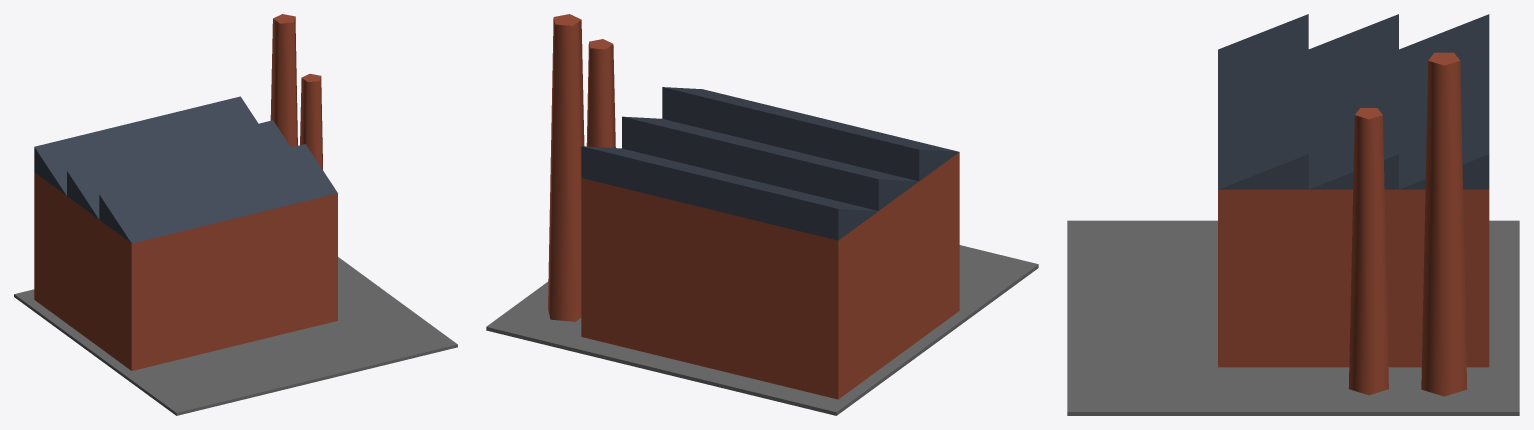
The model's file is bld_special_factory_a05_lod2.glb.
3 renders of one model, left to right at view 1: azimuth 30°, elevation 25°; view 2: azimuth 150°, elevation 25°; view 3: azimuth 270°, elevation 25°, orthographic. The views are drawn at different scales.
Visible parts, largest first — view 1: body; view 2: body; view 3: body.
Boxes of the visible parts, left/top/right/bottom form: body: left=14, top=14, right=457, bottom=415; body: left=486, top=14, right=1038, bottom=415; body: left=1067, top=14, right=1519, bottom=415.
Size of the model in its own units: 15 by 12.15 by 15.
